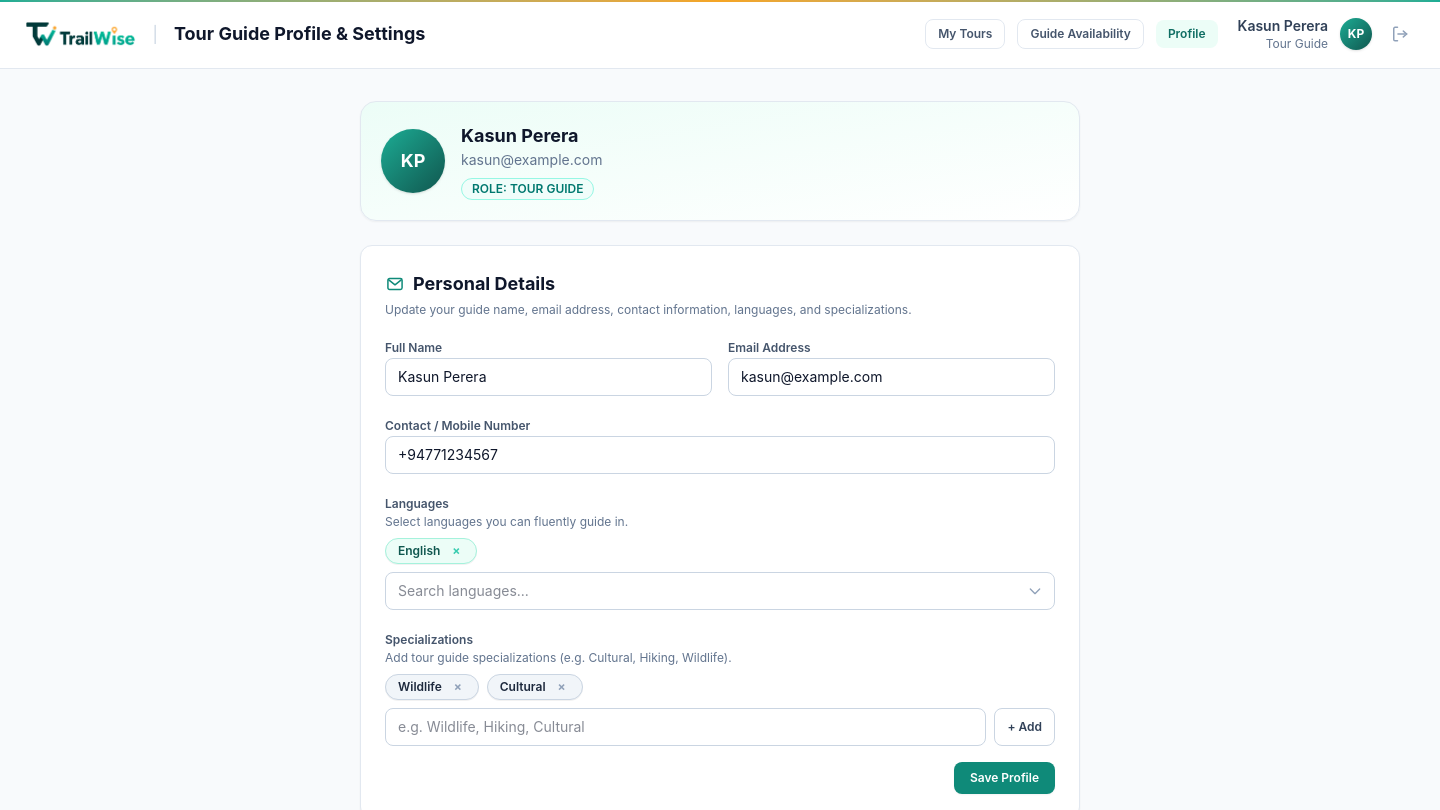
it: GuideProfilePage › 5. selecting a language immediately adds chip
Step 1. Type "sin" into the dropdown with placeholder "Search languages..." → point(720, 591), box [385,572,1055,610]
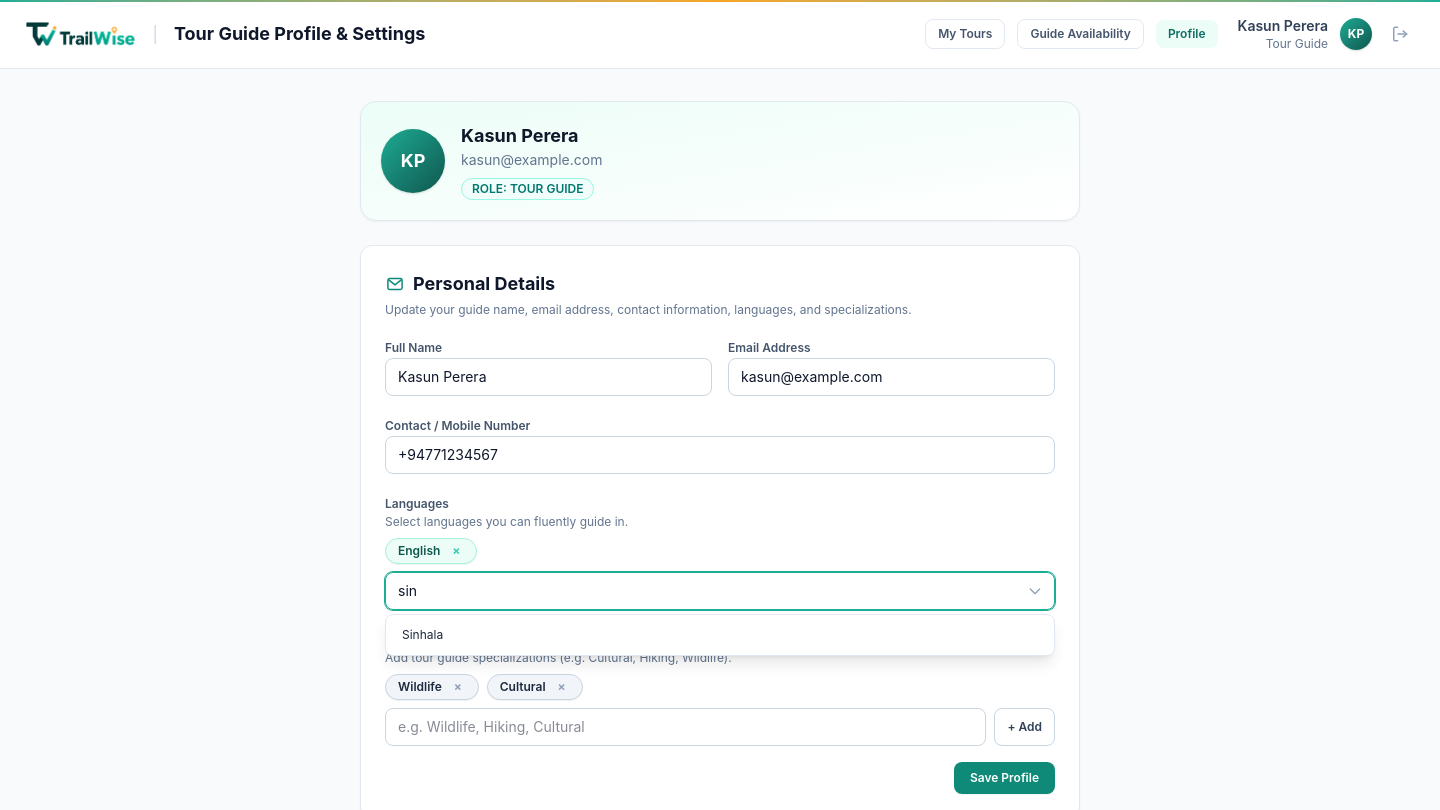
Step 2. Click the option "Sinhala" → point(423, 634), box [386,619,1054,651]
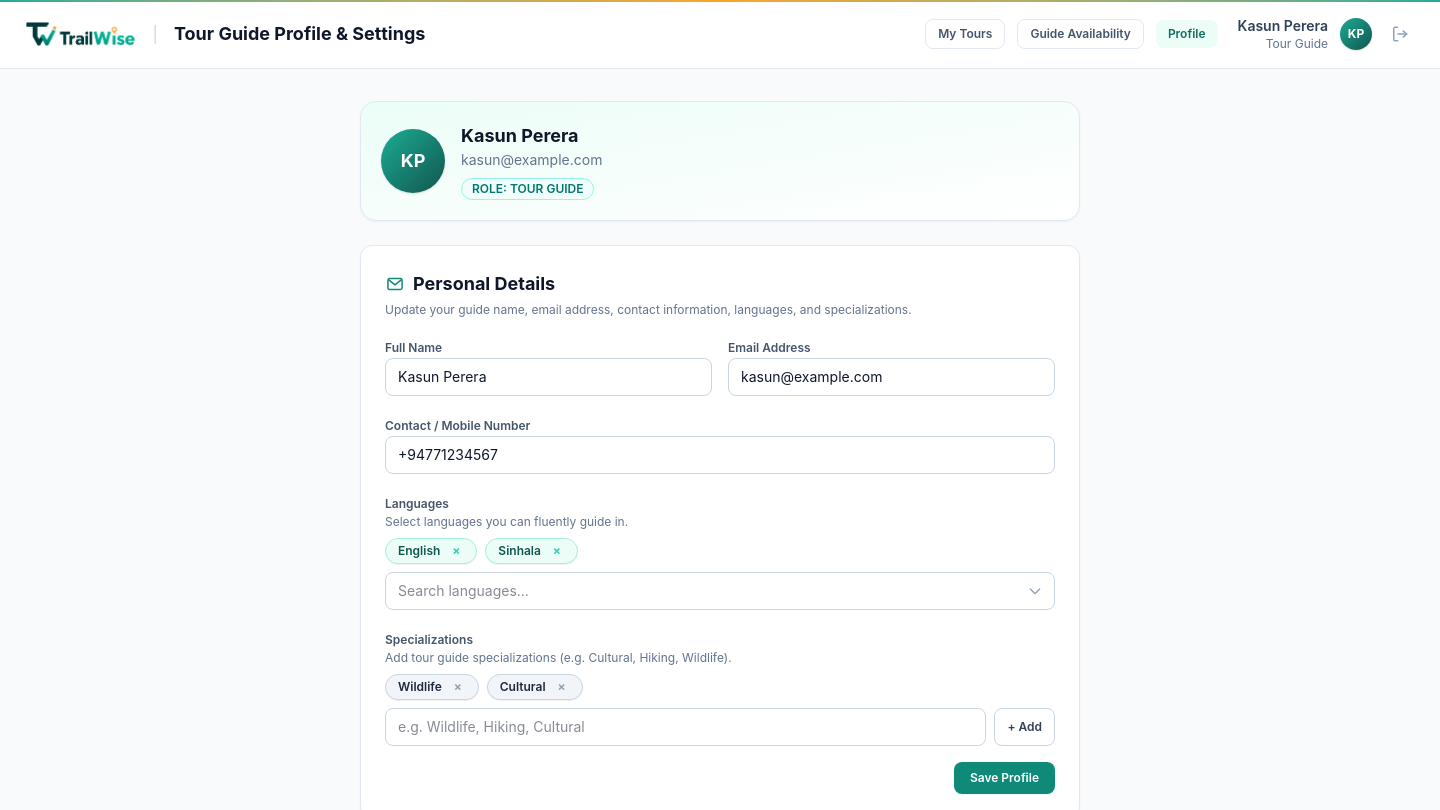
Expected: the element with test id "language-chips" shows "Sinhala", [498,543,541,558]
Expected: the button named "Remove Sinhala" is shown, [549,543,565,559]
Expected: the dropdown with placeholder "Search languages..." is empty, [385,572,1055,610]
